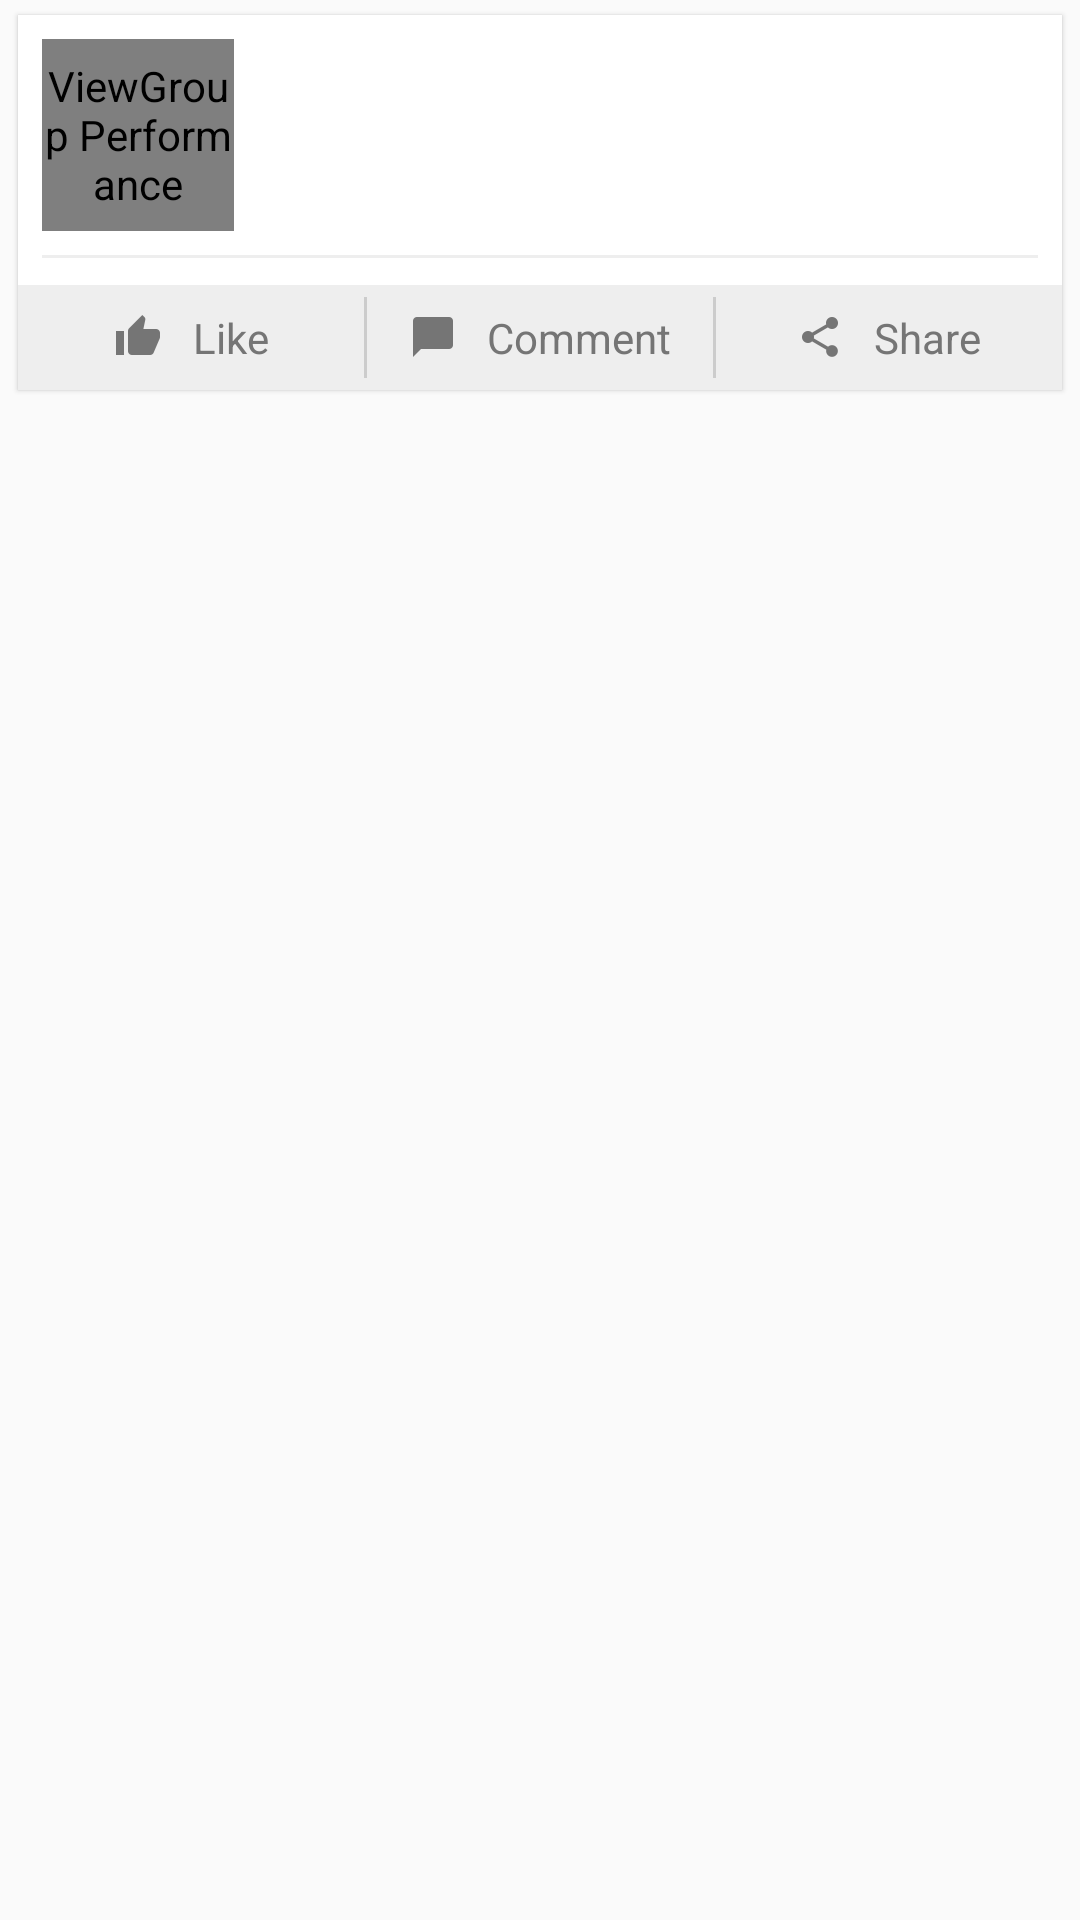

Icon bounding boxes for this 1080 × 1920 phone screenshot, format (x1, y1, x2, y2):
communication messenger: (413, 317, 453, 357)
thumb up: (116, 315, 160, 355)
